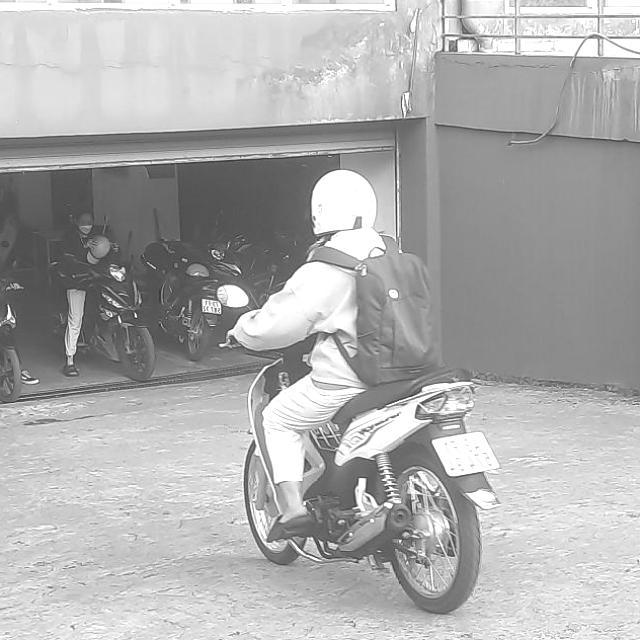Helmet: (306, 168, 378, 236)
